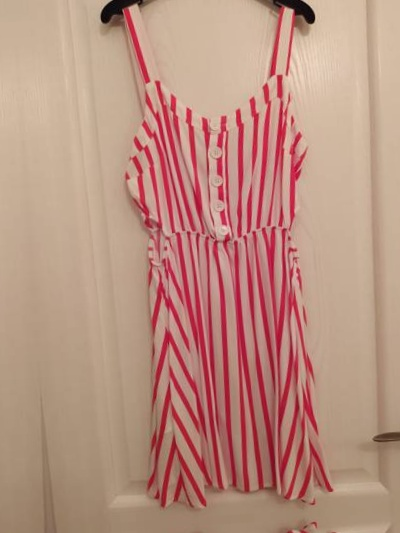Dress: (86, 5, 369, 521), (122, 516, 400, 533)
